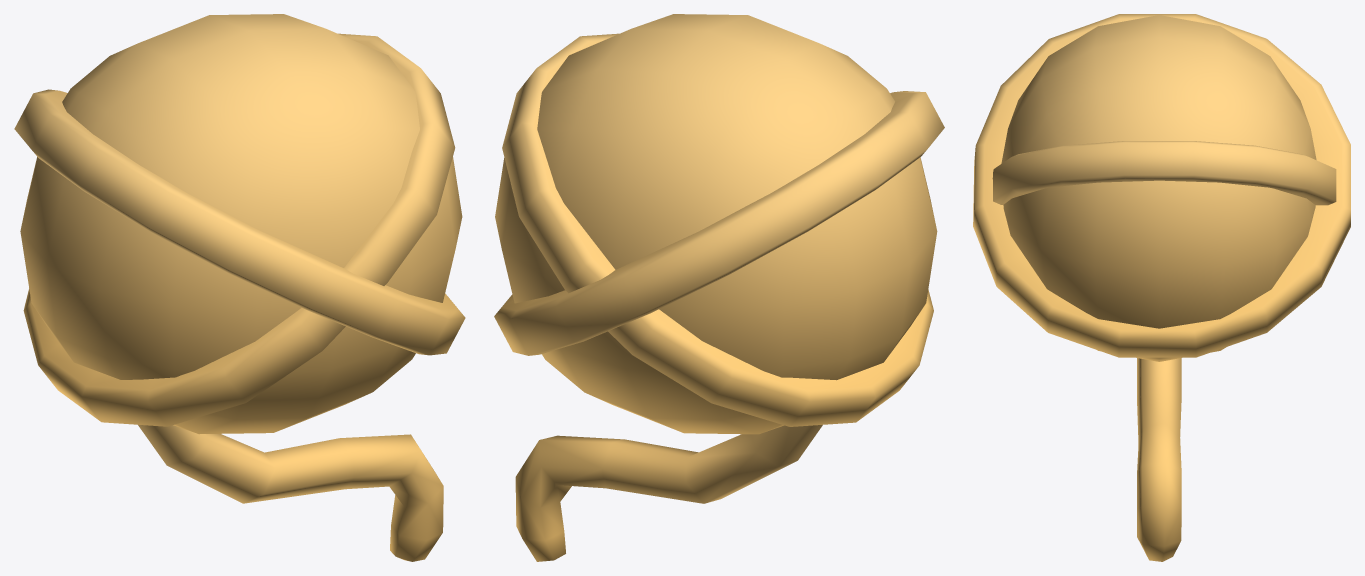
The model's file is Farm_Animal_Product_Wool.fbx.
The picture shows the model from 3 angles, left to right: view 1: azimuth 30°, elevation 25°; view 2: azimuth 150°, elevation 25°; view 3: azimuth 270°, elevation 25°; orthographic projection. The views are drawn at different scales.
Visible parts, largest first — view 1: Farm_Animal_Product_Wool; view 2: Farm_Animal_Product_Wool; view 3: Farm_Animal_Product_Wool.
Boxes of the visible parts, box(x1,y1,x2,y2) form: Farm_Animal_Product_Wool: box(14, 14, 465, 561); Farm_Animal_Product_Wool: box(494, 14, 944, 561); Farm_Animal_Product_Wool: box(973, 14, 1350, 561).
Size of the model in its own units: 28.49 by 39.44 by 29.51.
